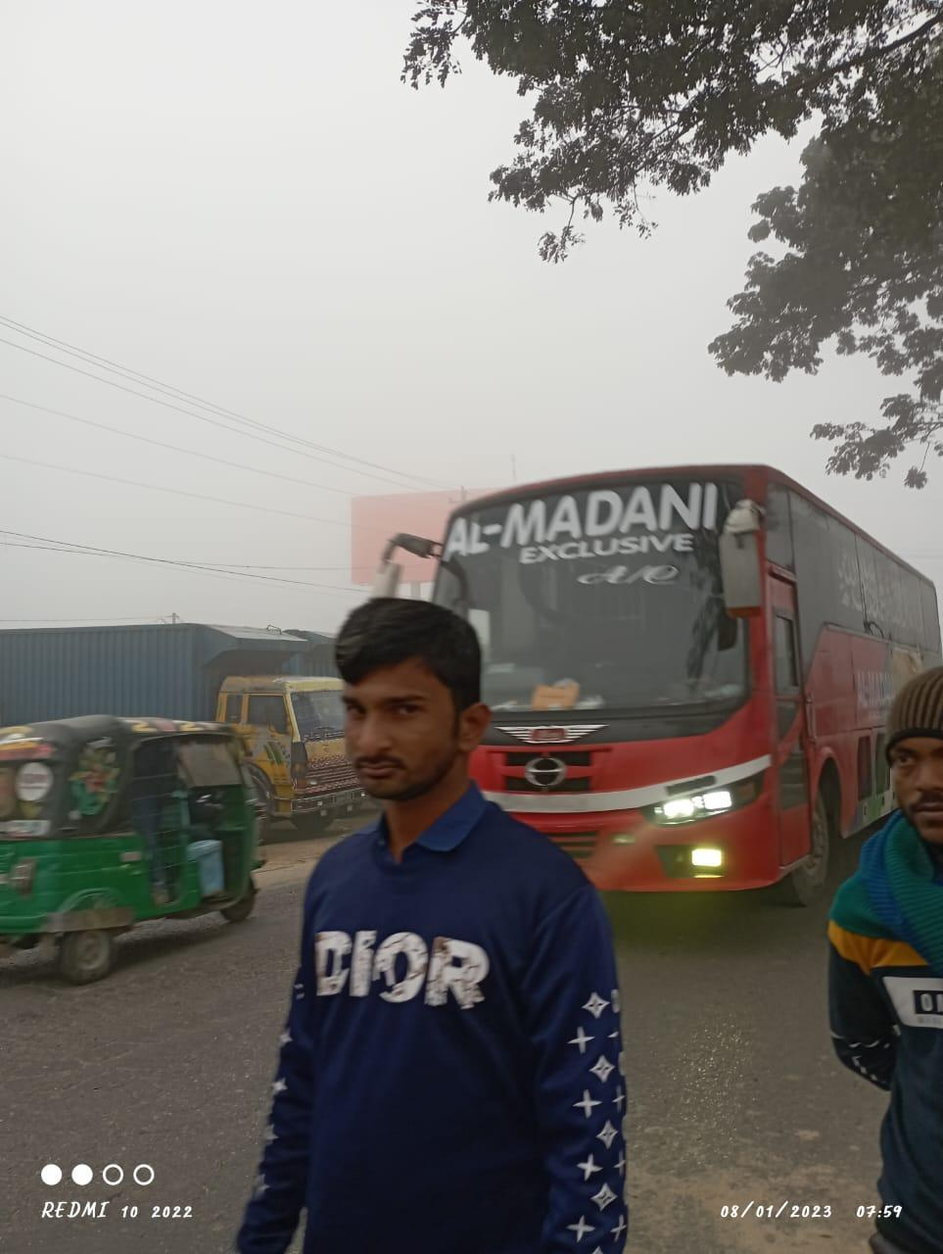Bus: (385, 455, 934, 926)
Truck: (6, 603, 357, 826)
